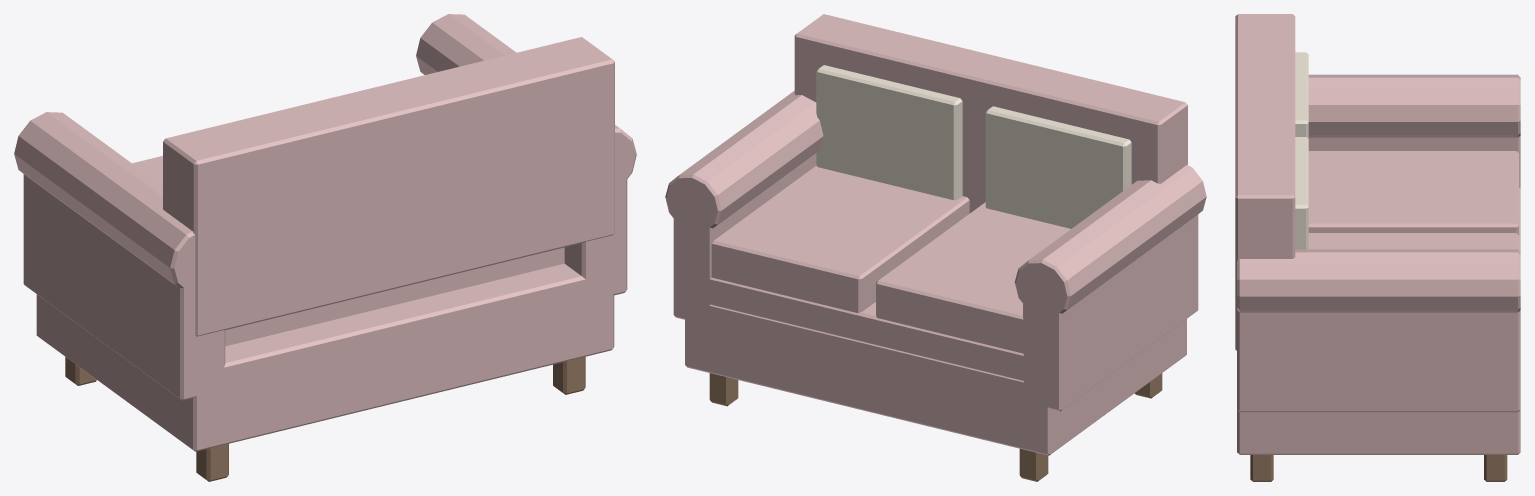
Rendered from SM_Sofa_02.fbx.
3 views of the same model, side by side, from view 1: azimuth 30°, elevation 25°; view 2: azimuth 150°, elevation 25°; view 3: azimuth 270°, elevation 25° (orthographic). The views are drawn at different scales.
Visible parts, largest first — view 1: Sofa_02; view 2: Sofa_02; view 3: Sofa_02.
Part boxes in pixels (bbox=[...]): Sofa_02: bbox=[14, 14, 636, 481]; Sofa_02: bbox=[665, 14, 1206, 481]; Sofa_02: bbox=[1235, 14, 1520, 481].
Size of the model in its own units: 144 by 98 by 85.5.
